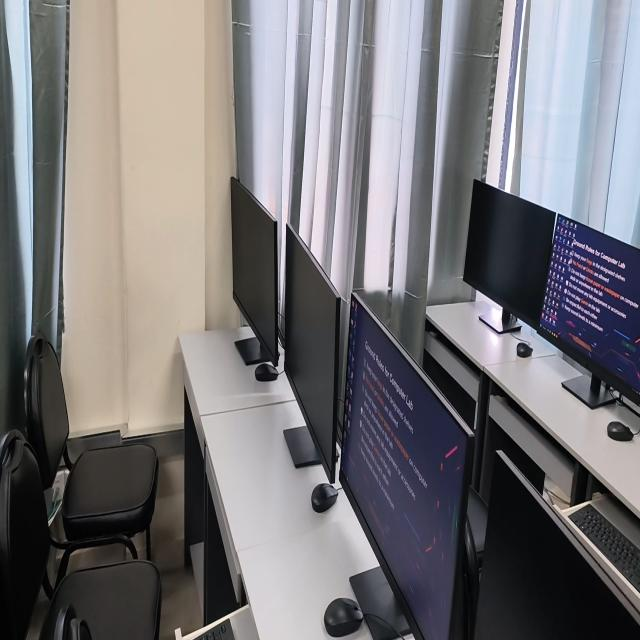Chair: (24, 334, 158, 589), (0, 430, 162, 639), (463, 517, 480, 639), (468, 487, 487, 559)
Keyboard: (569, 505, 640, 592), (194, 619, 234, 639)
Monitor: (339, 295, 474, 639), (475, 454, 640, 639), (540, 215, 640, 408), (284, 225, 340, 482), (464, 181, 556, 334), (231, 178, 279, 367)
Mouse: (324, 598, 363, 637), (311, 484, 338, 513), (607, 421, 633, 441), (255, 363, 279, 381), (517, 342, 533, 357)
